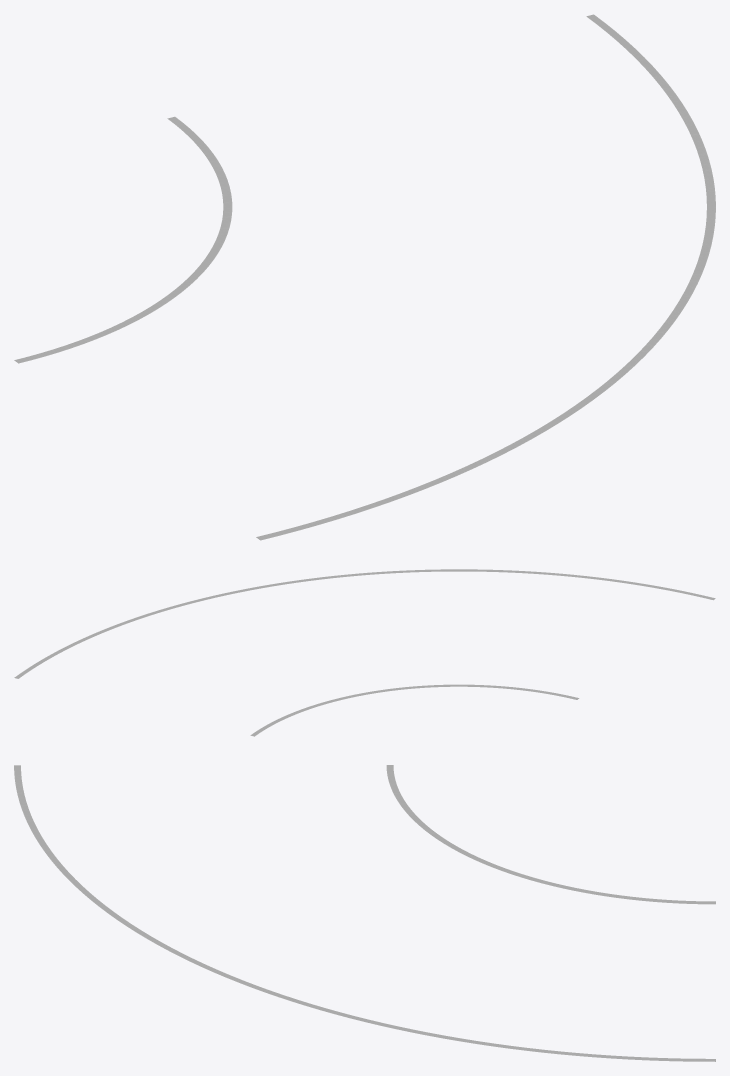
File: jcGrdSolidLineA_L.fbx
3 renders of one model, top to bottom at view 1: azimuth 30°, elevation 25°; view 2: azimuth 150°, elevation 25°; view 3: azimuth 270°, elevation 25°, orthographic. The views are drawn at different scales.
Visible parts, largest first — view 1: jcGrdSolidLineA_L; view 2: jcGrdSolidLineA_L; view 3: jcGrdSolidLineA_L.
Boxes of the visible parts, x1,y1,x2,y2 form: jcGrdSolidLineA_L: [14, 14, 715, 540]; jcGrdSolidLineA_L: [14, 569, 715, 736]; jcGrdSolidLineA_L: [14, 765, 715, 1061].
Bounding box in the file's own units: 1508 × 0 × 1508.
